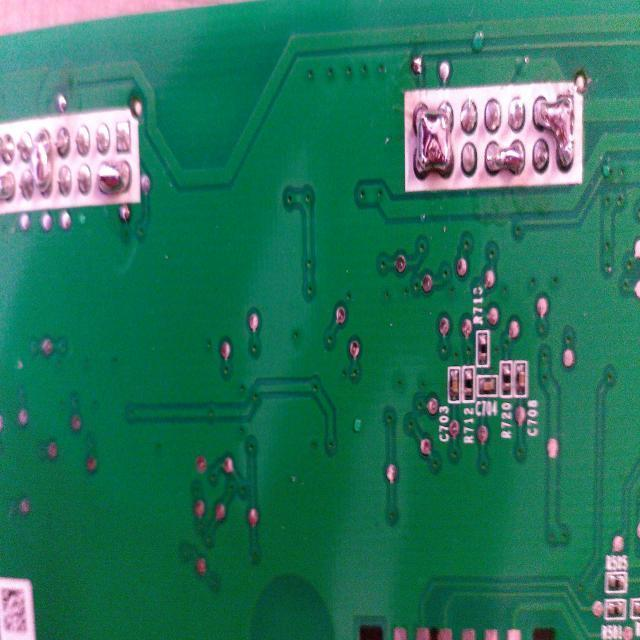Soldering shorted: (531, 92, 578, 182), (413, 98, 456, 186), (485, 139, 526, 183), (31, 130, 53, 203), (92, 161, 134, 195)
